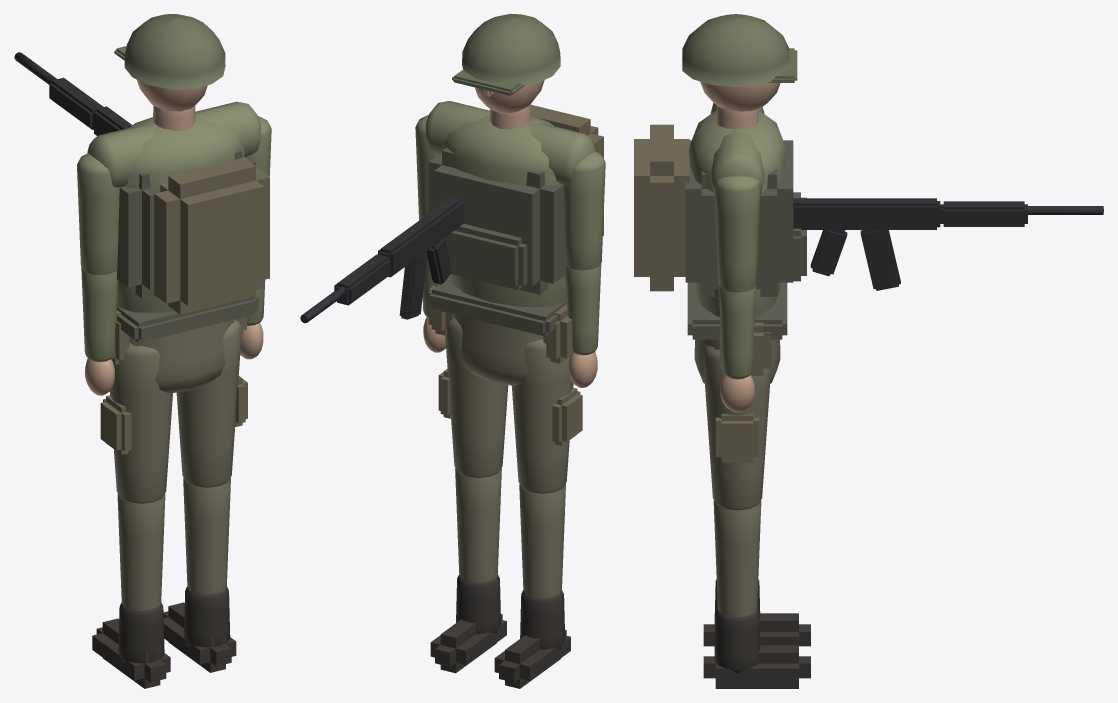
File: npc.glb
3 views of the same model, side by side, from view 1: azimuth 30°, elevation 25°; view 2: azimuth 150°, elevation 25°; view 3: azimuth 270°, elevation 25° (orthographic). The views are drawn at different scales.
Parts seen in each view (by area): view 1: torso, shin_L_001, shin_R_001, thigh_L, head_001, pelvis, thigh_R, upperarm_L, forearm_L_001, npcgun, forearm_R_001, upperarm_R; view 2: torso, shin_R_001, shin_L_001, pelvis, head_001, thigh_L, npcgun, thigh_R, upperarm_L, forearm_L_001, upperarm_R, forearm_R_001; view 3: torso, npcgun, shin_R_001, head_001, thigh_R, upperarm_R, pelvis, forearm_R_001, shin_L_001.
Boxes of the visible parts, left/top/right/bottom form: torso: left=87, top=101, right=269, bottom=314; shin_L_001: left=92, top=494, right=170, bottom=688; shin_R_001: left=163, top=478, right=236, bottom=672; thigh_L: left=100, top=343, right=172, bottom=503; head_001: left=114, top=14, right=225, bottom=130; pelvis: left=111, top=296, right=258, bottom=393; thigh_R: left=176, top=319, right=247, bottom=487; upperarm_L: left=77, top=153, right=119, bottom=274; forearm_L_001: left=81, top=268, right=118, bottom=395; npcgun: left=14, top=52, right=132, bottom=135; forearm_R_001: left=240, top=279, right=265, bottom=359; upperarm_R: left=248, top=116, right=271, bottom=176; torso: left=425, top=101, right=603, bottom=306; shin_R_001: left=430, top=468, right=506, bottom=673; shin_L_001: left=494, top=484, right=570, bottom=688; pelvis: left=427, top=276, right=573, bottom=385; head_001: left=452, top=14, right=560, bottom=129; thigh_L: left=512, top=339, right=582, bottom=493; npcgun: left=300, top=197, right=463, bottom=323; thigh_R: left=438, top=317, right=508, bottom=477; upperarm_L: left=564, top=151, right=605, bottom=270; forearm_L_001: left=565, top=263, right=601, bottom=387; upperarm_R: left=415, top=115, right=438, bottom=220; forearm_R_001: left=422, top=251, right=450, bottom=352; torso: left=634, top=103, right=806, bottom=316; npcgun: left=793, top=198, right=1103, bottom=290; shin_R_001: left=703, top=501, right=810, bottom=688; head_001: left=682, top=14, right=797, bottom=128; thigh_R: left=702, top=345, right=772, bottom=510; upperarm_R: left=714, top=176, right=760, bottom=292; pelvis: left=687, top=282, right=787, bottom=383; forearm_R_001: left=719, top=285, right=755, bottom=412; shin_L_001: left=703, top=579, right=810, bottom=646.
Size of the model in its own units: 0.546 by 1.81 by 1.18.
